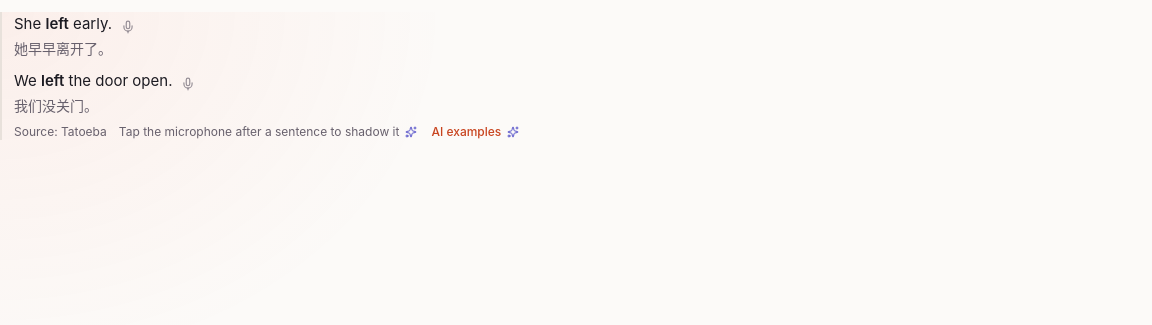
Test: shadowing an example sentence › opens the panel for that sentence alone
The image size is (1152, 325).
Expected: the element with test id "examples-shadowing-hint" is shown, x1=119 y1=124 x2=419 y2=140
Step 1. Click the button named "Shadow this sentence" next to "the door open." → (188, 84), box x1=176 y1=72 x2=200 y2=96
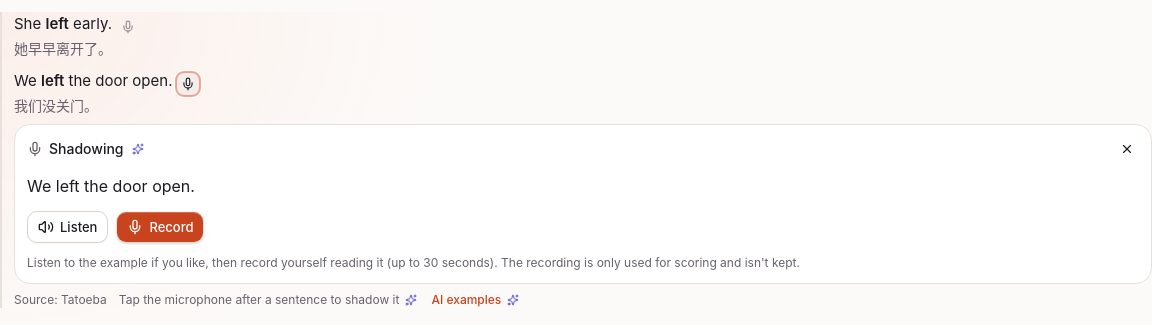
Expected: the text with test id "shadowing-sentence" reads "We left the door open.", x1=27 y1=176 x2=195 y2=196
Step 2. Click the 2nd button named "Shadow this sentence" → (188, 84), box x1=176 y1=72 x2=200 y2=96
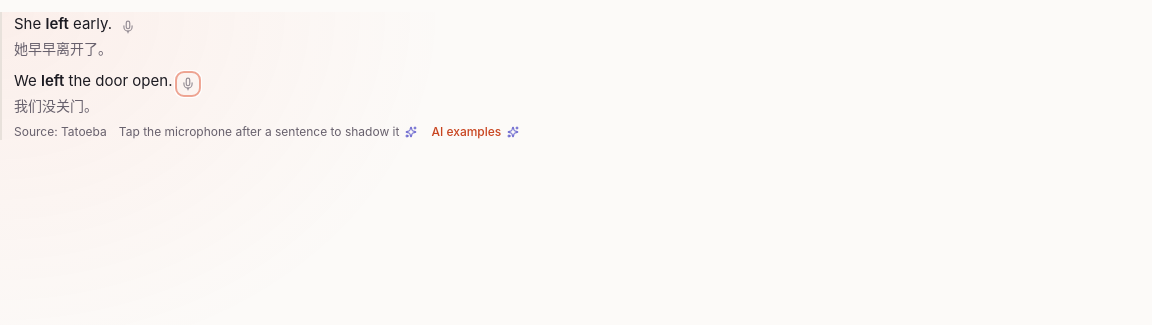
Expected: the element with test id "shadowing-panel" is gone
